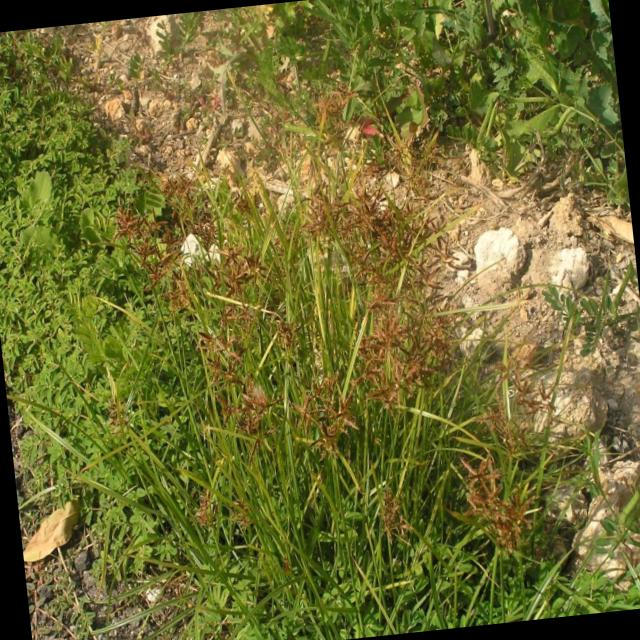cyperus: (352, 271, 455, 394), (300, 177, 404, 278), (471, 350, 562, 458), (453, 447, 533, 562), (287, 369, 365, 466), (207, 238, 271, 356), (110, 190, 178, 294), (211, 372, 280, 452), (161, 166, 218, 250), (197, 326, 256, 386), (376, 487, 408, 541), (274, 314, 307, 359), (162, 268, 192, 311), (190, 486, 220, 526)
